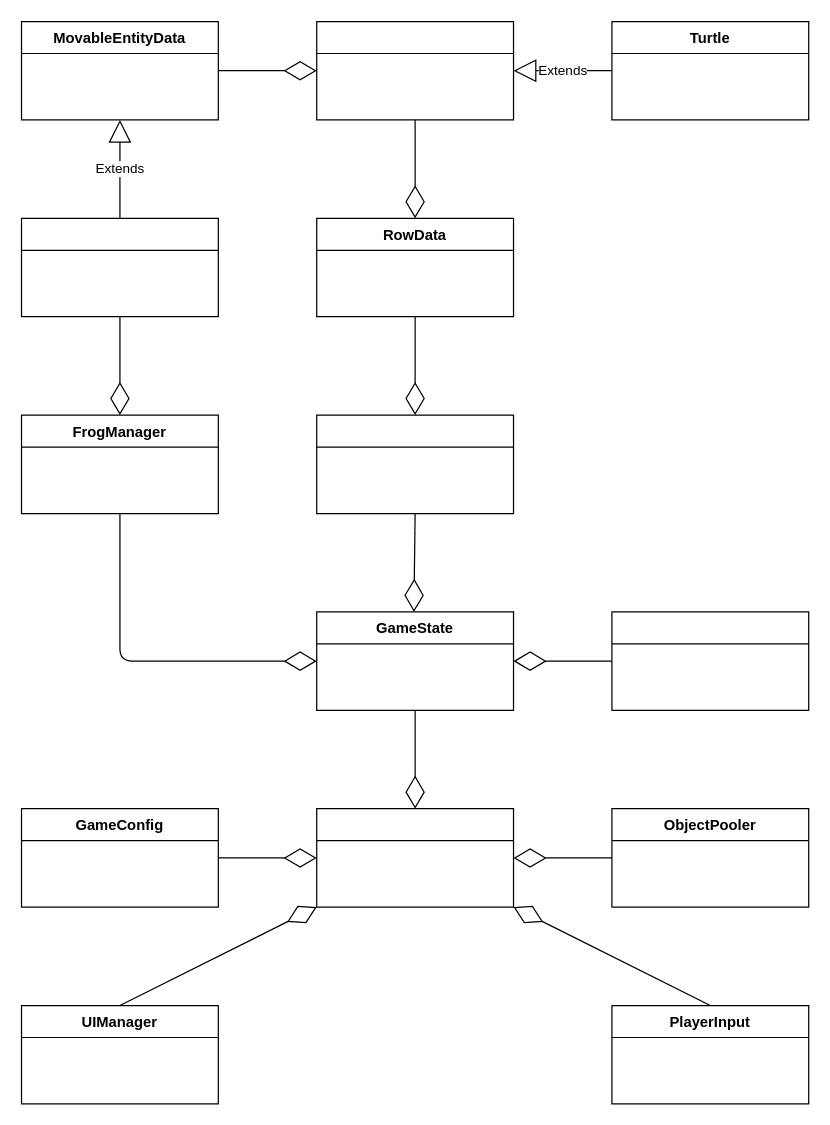
Some shapes in this 830 by 1125 pixel diagram are drawn without their labels. The shapes that lost their labels are listed below. From the top down, each one's centre as x and y in pixels, then its label:
At point 414,70: "Obstacle".
At point 119,267: "FrogData".
At point 414,464: "ObstacleManager".
At point 710,660: "FinishSpot".
At point 414,857: "GameManager".
